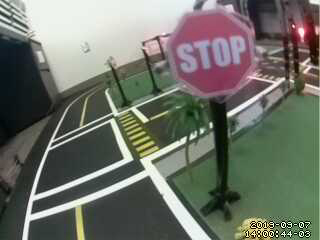Stop_Sign: (163, 9, 270, 103)
